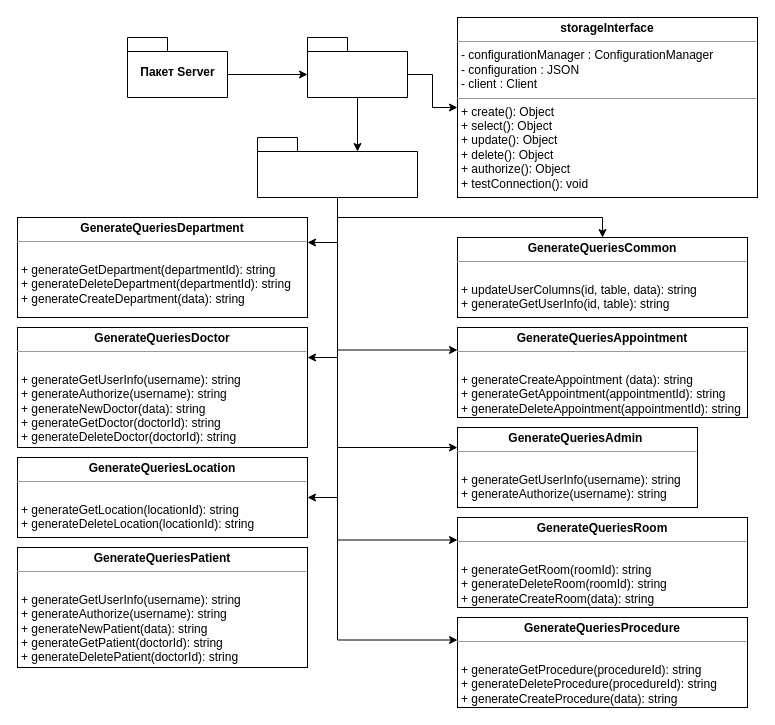
Some shapes in this 775 by 725 pixel diagram are drawn without their labels. Each missing label, with the centre of its shape:
"Пакет PosgreSQLQuery" goes at pixel 337 167.
"Пакет Storage" goes at pixel 357 67.
